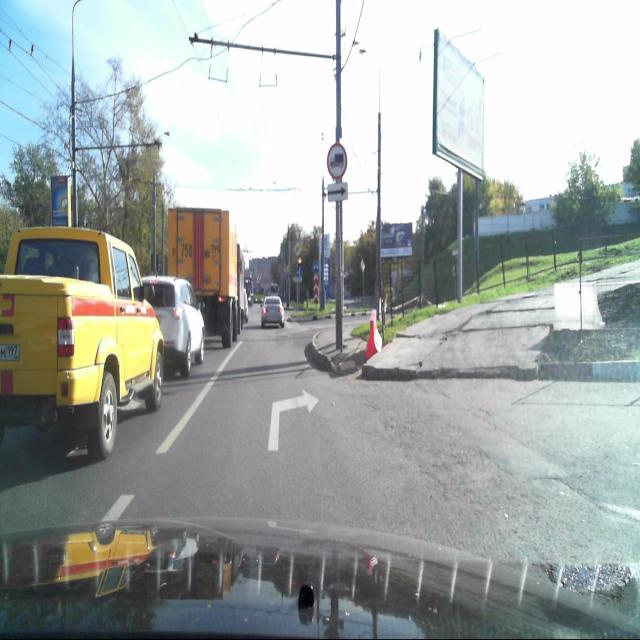road sign: (326, 181, 348, 200)
